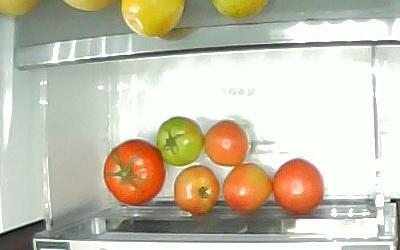tomato: (102, 137, 167, 205), (271, 156, 324, 214), (221, 161, 272, 212), (155, 115, 203, 166), (172, 163, 220, 214), (202, 118, 248, 166)
